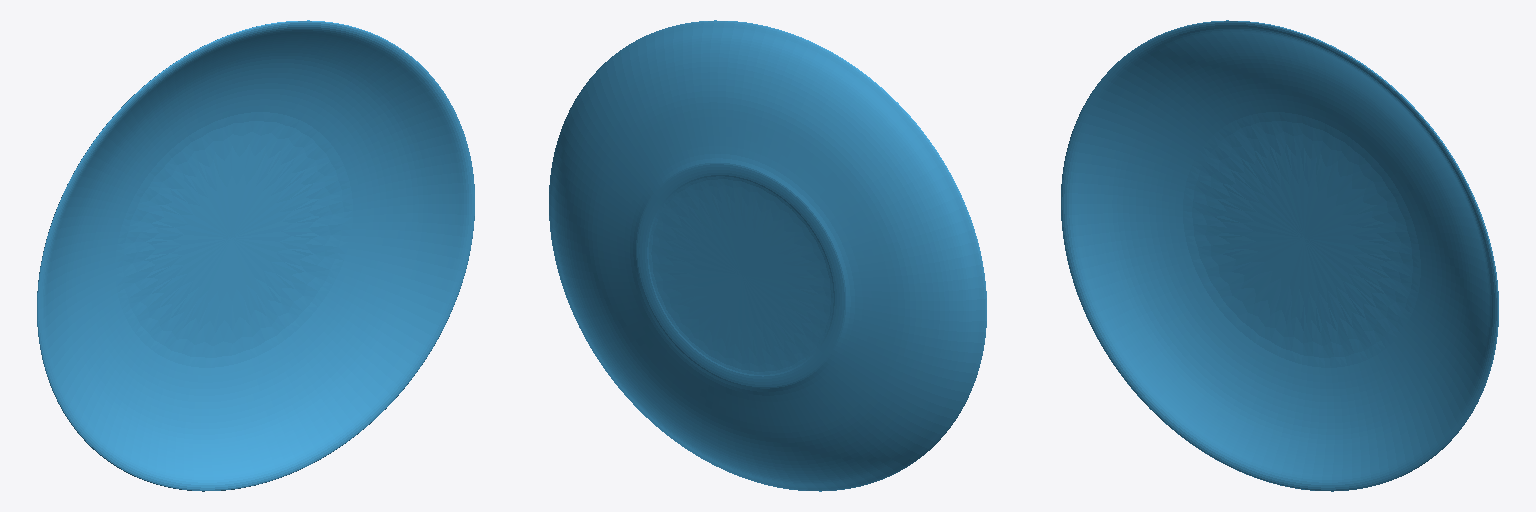
URDF robot description (generated_robot):
<robot name="generated_robot">
    <link name="plate_new_base" />
    <link name="plate_new">
        <visual name="door_frame-6">
            <origin xyz="0 0 0 " />
            <geometry>
                <mesh filename="plate_new.obj" />
            </geometry>
        </visual>
        <collision>
            <origin xyz="0 0 0 " />
            <geometry>
                <mesh filename="plate_new_collision.obj" />
            </geometry>
        </collision>
    </link>    
    <joint name="joint_0" type="fixed">
        <origin xyz="0 0 0" />
        <axis xyz="0 -1 0" />
        <child link="plate_new_base" />
        <parent link="plate_new" />
    </joint>
</robot>

--- What the picture shows (computed from the rendered views, not written in the file) ---
Views: 3 orthographic renders of the robot side by side, from view 1: azimuth 30°, elevation 25°; view 2: azimuth 150°, elevation 25°; view 3: azimuth 330°, elevation 25°.
Model generated_robot with 2 links and 1 joints (1 fixed), rooted at plate_new, posed every joint at zero.
Visible links, largest first — view 1: plate_new; view 2: plate_new; view 3: plate_new.
Link boxes in pixels (box(x1,y1,x2,y2)): plate_new: box(37, 20, 474, 491); plate_new: box(549, 20, 986, 491); plate_new: box(1061, 20, 1498, 491).
Bounding box of the posed robot: 9.56 × 1.04 × 9.56 m (x, y, z).
Meshes: 1 distinct files referenced, 1 mesh visuals loaded (1 OBJ).